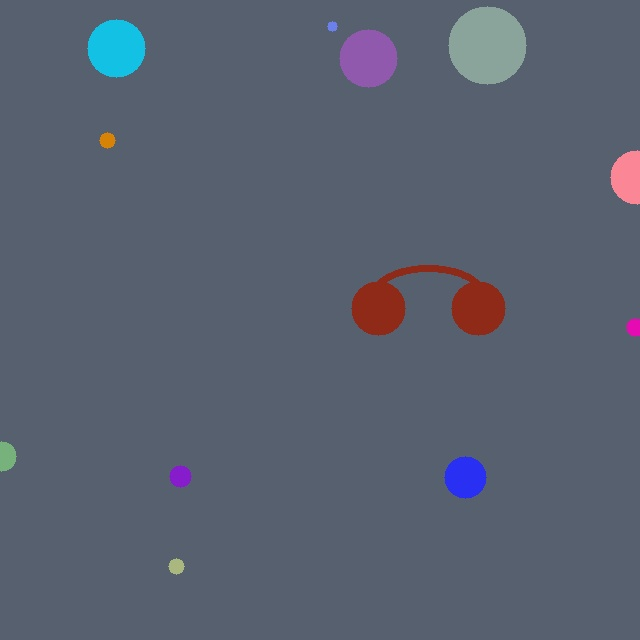over_ear: (347, 248, 509, 339)
